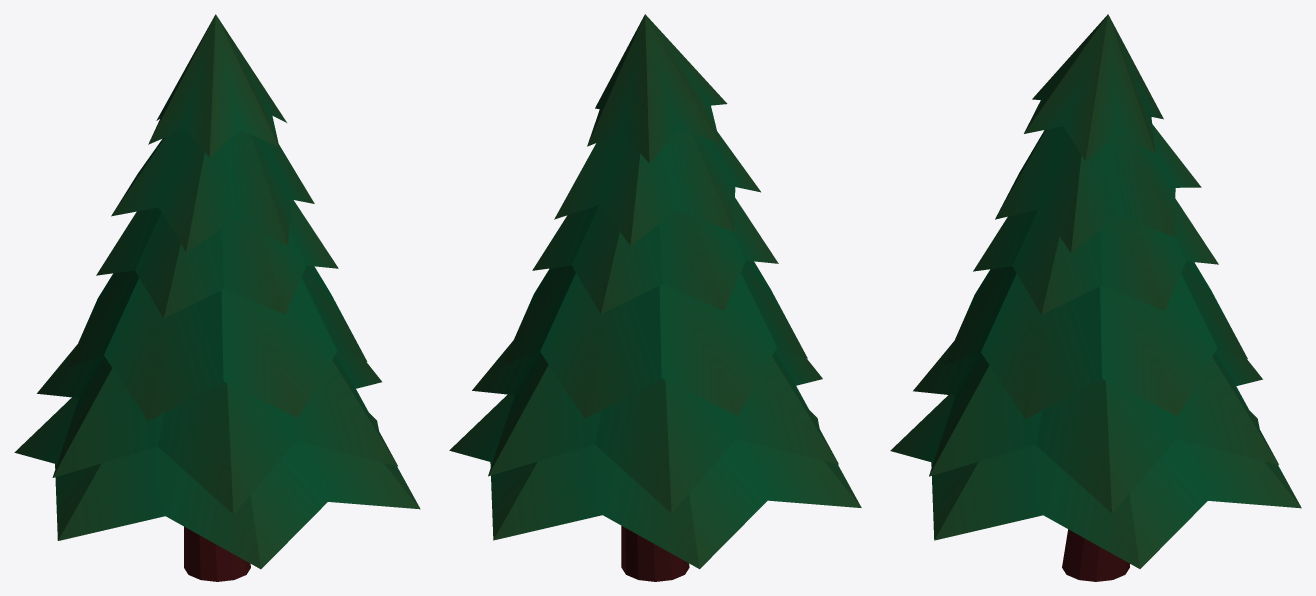
Rendered from tree_3_2.fbx.
The picture shows the model from 3 angles, left to right: view 1: azimuth 30°, elevation 25°; view 2: azimuth 150°, elevation 25°; view 3: azimuth 270°, elevation 25°; orthographic projection.
Parts seen in each view (by area): view 1: tree_3_2; view 2: tree_3_2; view 3: tree_3_2.
Part boxes in pixels (<box>): tree_3_2: <box>14,14,420,581</box>; tree_3_2: <box>449,14,861,581</box>; tree_3_2: <box>890,14,1301,581</box>.
Bounding box in the file's own units: 3.02 × 2.93 × 4.36.
